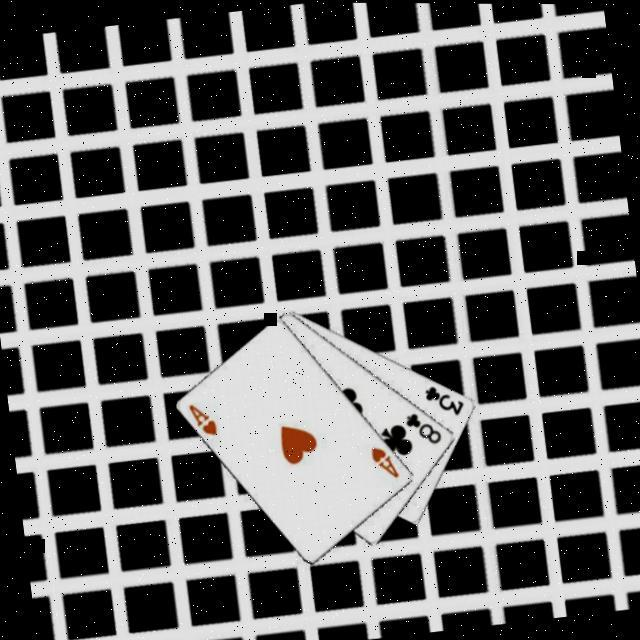3C: (422, 376, 469, 419)
8C: (404, 404, 446, 446)
AH: (368, 438, 404, 480), (186, 395, 222, 437)
